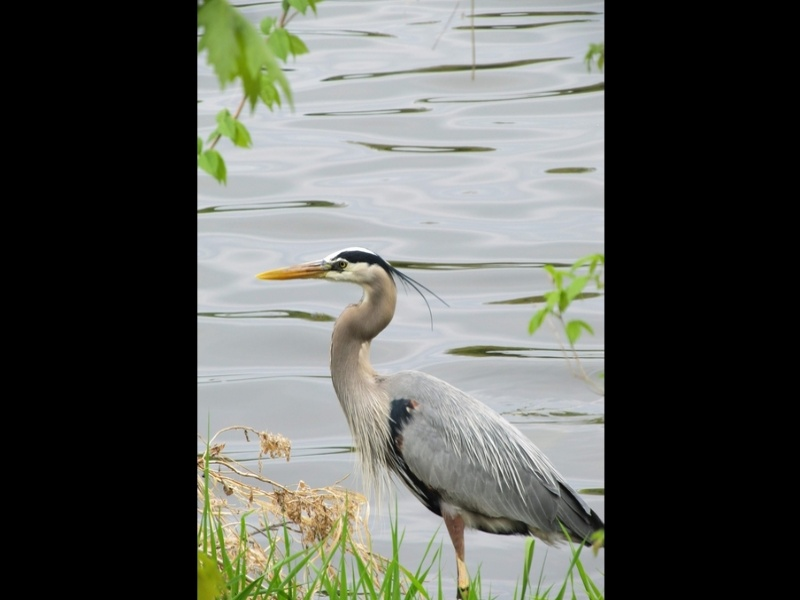heron: (252, 245, 596, 582)
